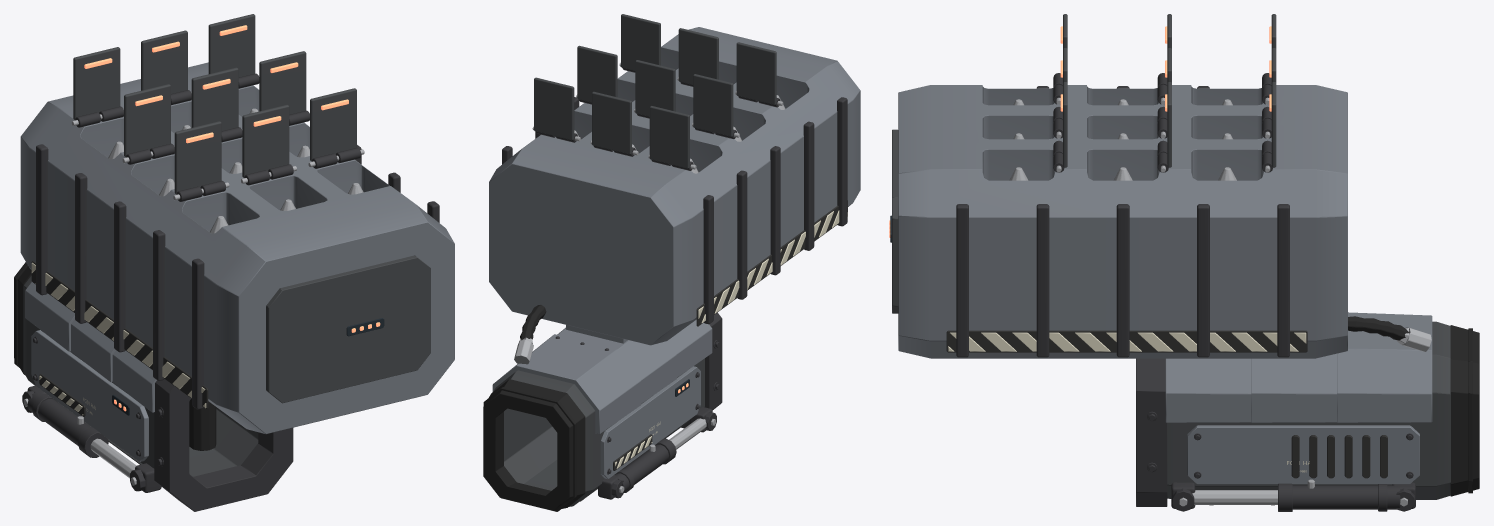
The model's file is fgimpact.glb.
The picture shows the model from 3 angles, left to right: view 1: azimuth 30°, elevation 25°; view 2: azimuth 150°, elevation 25°; view 3: azimuth 270°, elevation 25°; orthographic projection. The views are drawn at different scales.
Visible parts, largest first — view 1: Body; view 2: Body; view 3: Body.
Part boxes in pixels (box(x1,y1,x2,y2)): Body: box(14, 14, 454, 511); Body: box(483, 14, 860, 511); Body: box(889, 14, 1479, 511).
Size of the model in its own units: 0.36 by 0.597 by 0.7352.
